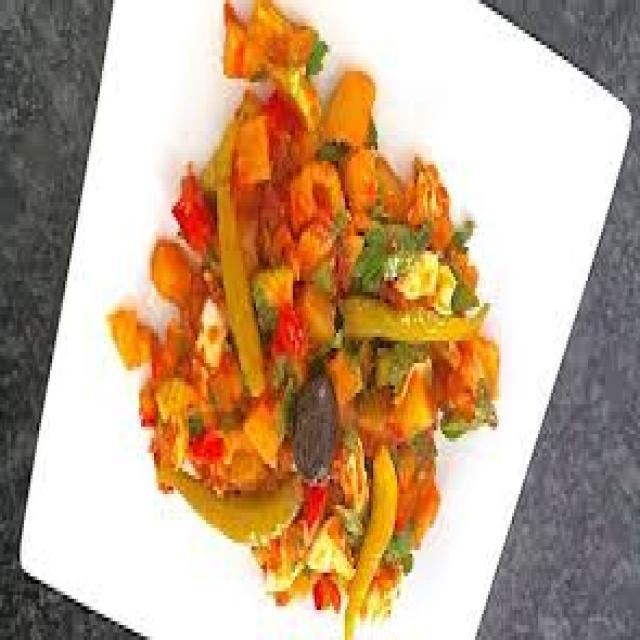Kafteji: (109, 5, 499, 640)
